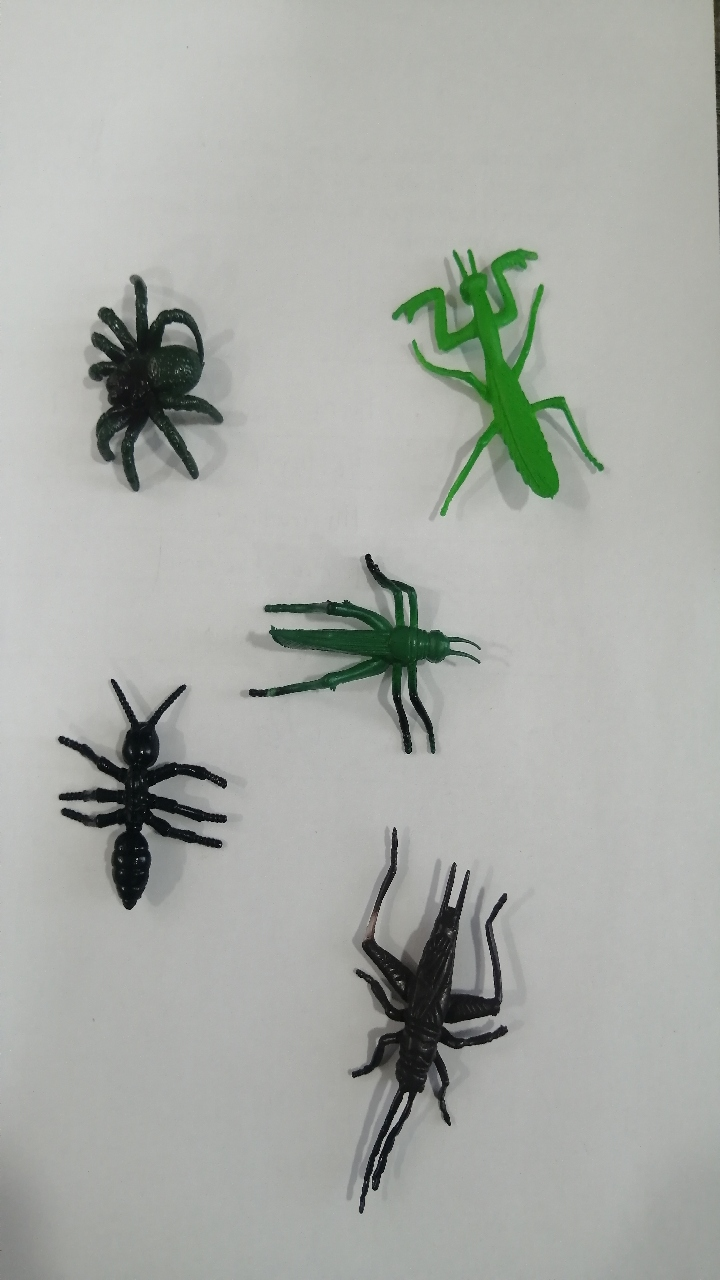intruso: (355, 219, 643, 543), (314, 805, 529, 1239), (232, 528, 509, 769), (41, 246, 278, 515), (37, 652, 246, 945)
